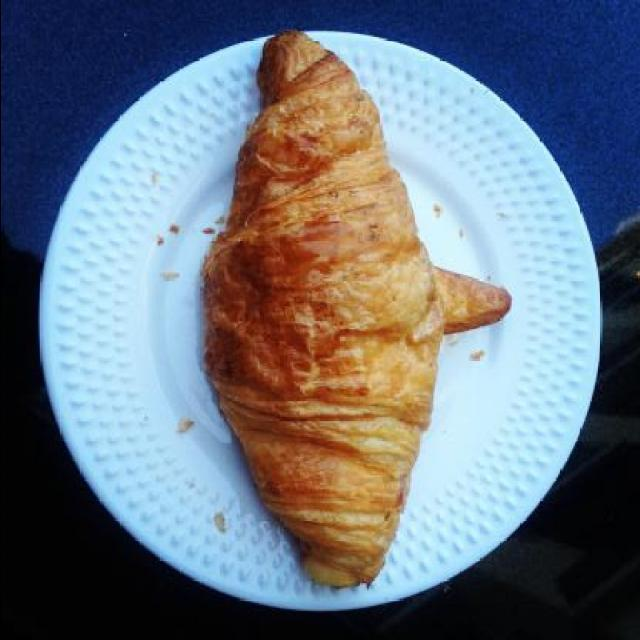Croissant: (187, 29, 496, 603)
